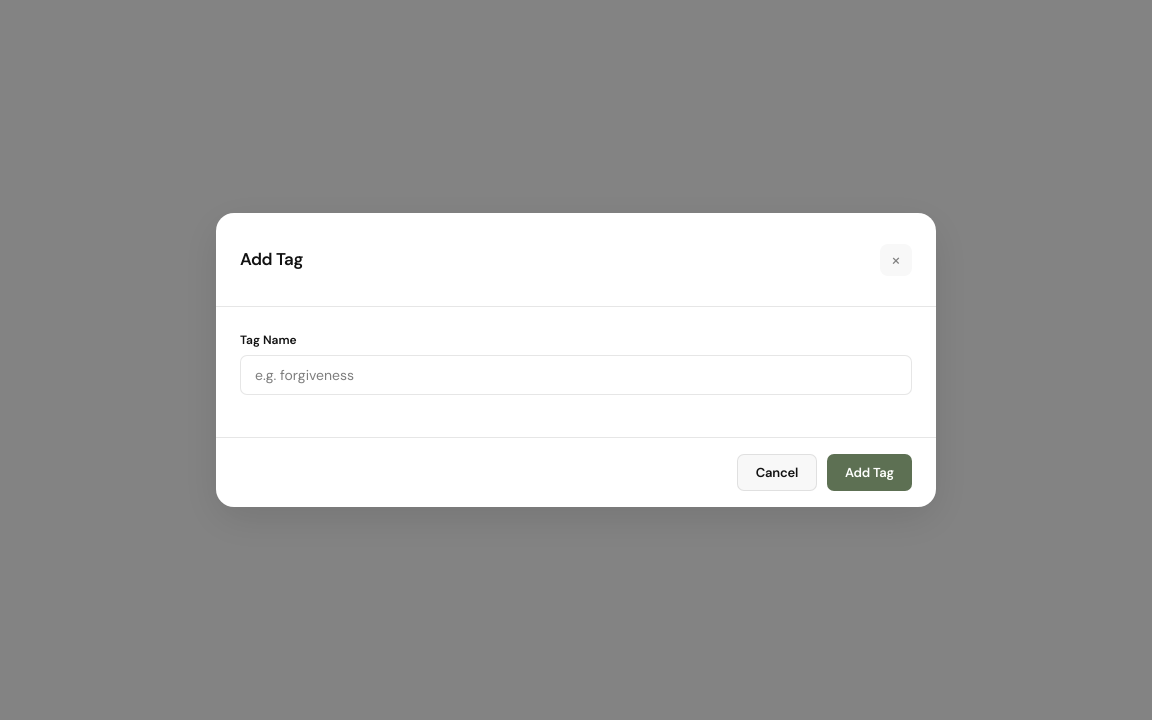
it: AddTagModal › tells a non-admin that only admins can add tags and keeps what they typed
Type "forgiveness" into the field with placeholder "e.g. forgiveness" at coordinates (576, 375), box [240, 355, 912, 395]
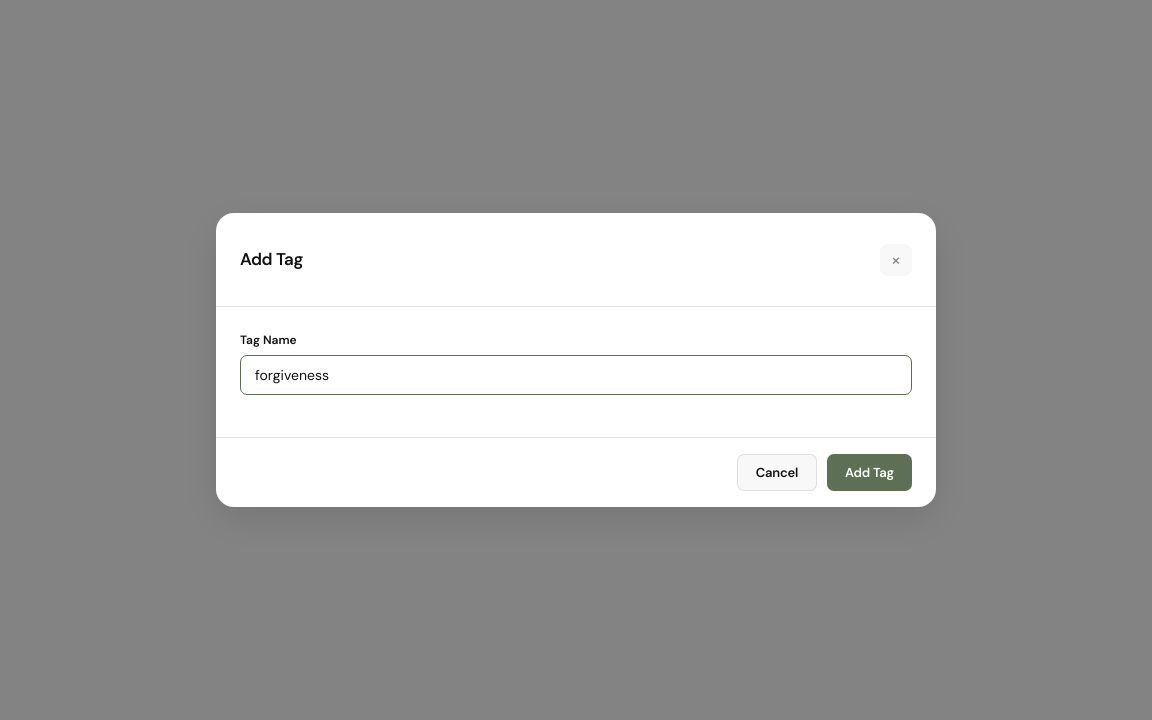
Click the button "Add Tag" at coordinates (870, 473), box [827, 454, 912, 491]
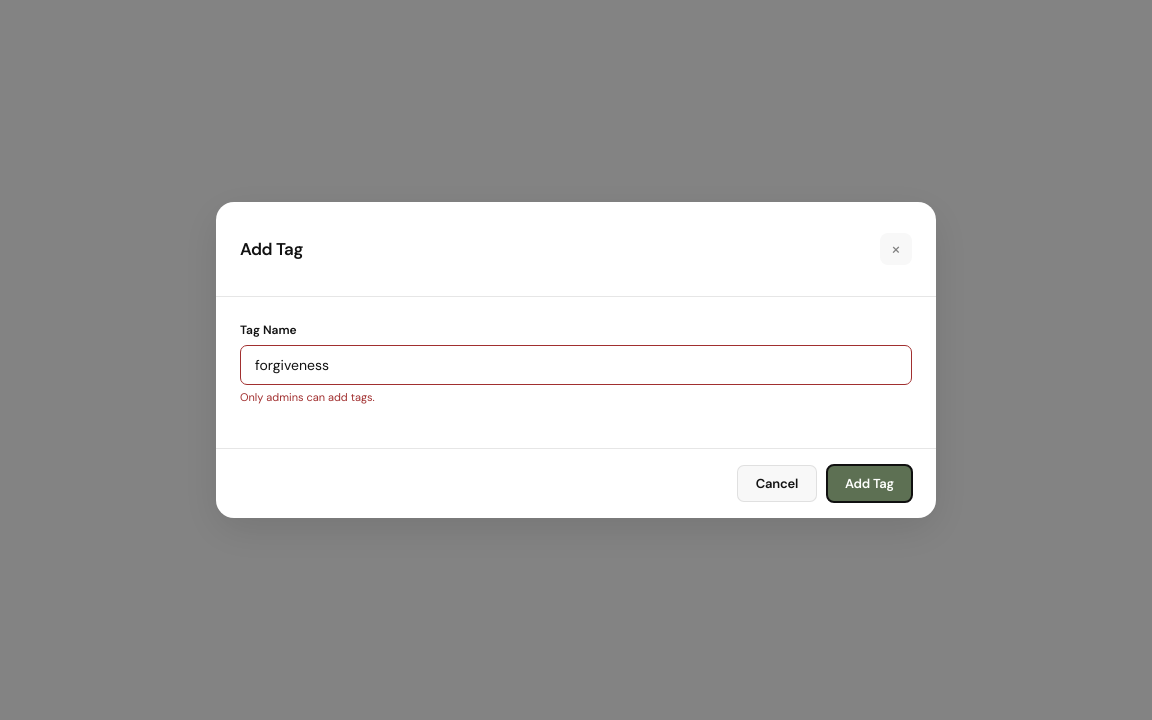
expect the text "Only admins can add tags." is shown: met, box [240, 390, 375, 404]
